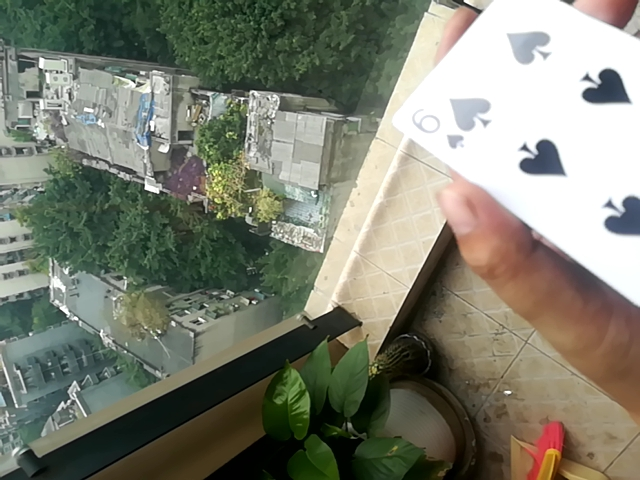ht 6: (394, 1, 640, 378)
